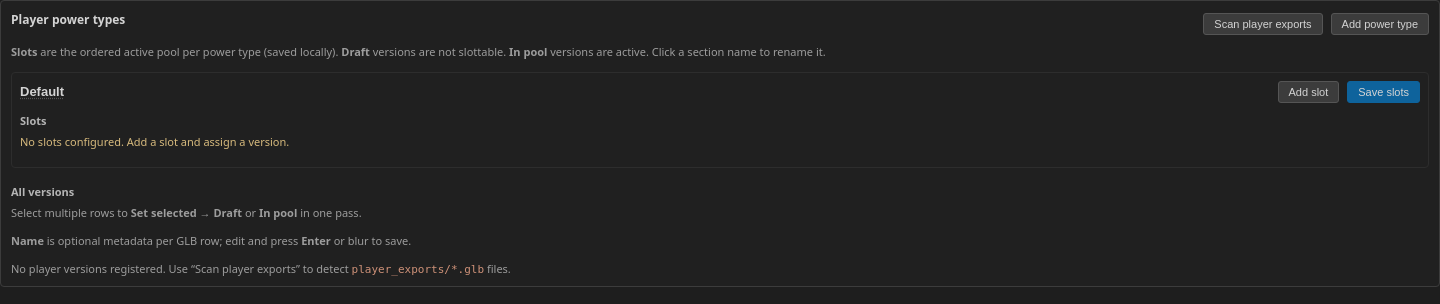
Test: RegistryPlayerPowerTypesSection › saves renamed label when Save is clicked
Click the button with test id "player-pt-name-btn-default" at [42, 92], box [20,82,64,101]
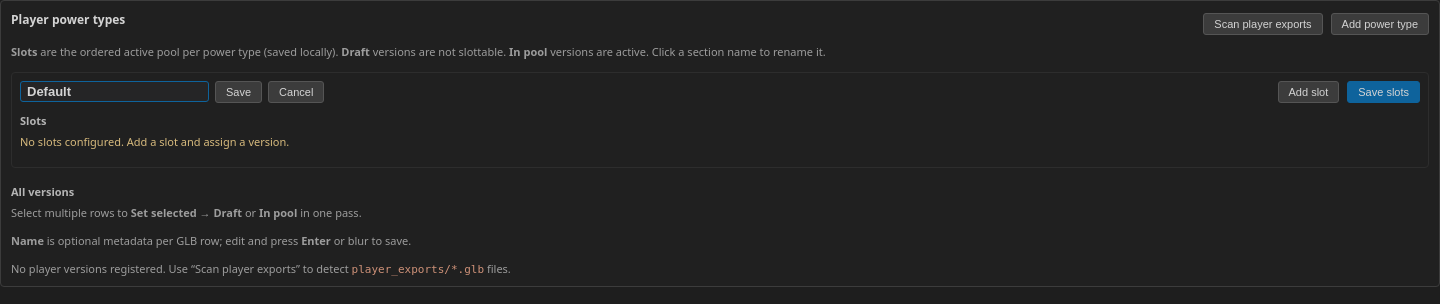
Replace the text in the field with test id "player-pt-name-input-default" with "Fire Type" at [114, 92], box [20,81,209,102]
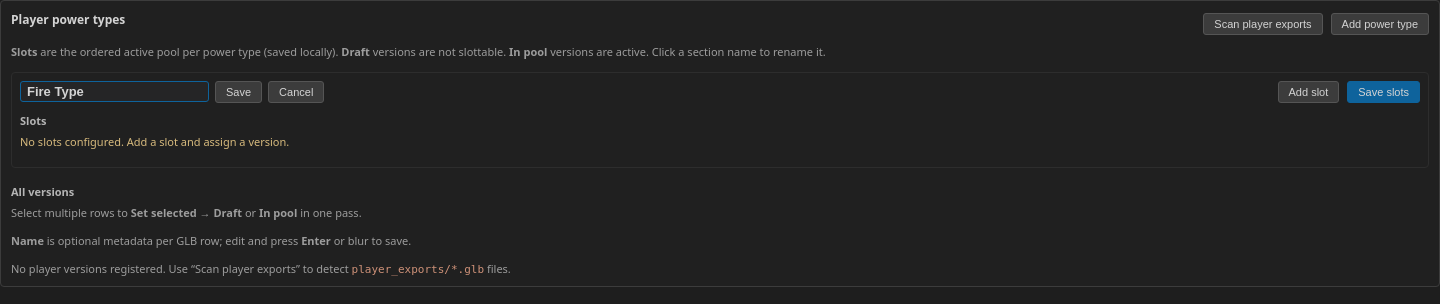
Click the button "Save" at [239, 92], box [215,81,262,103]
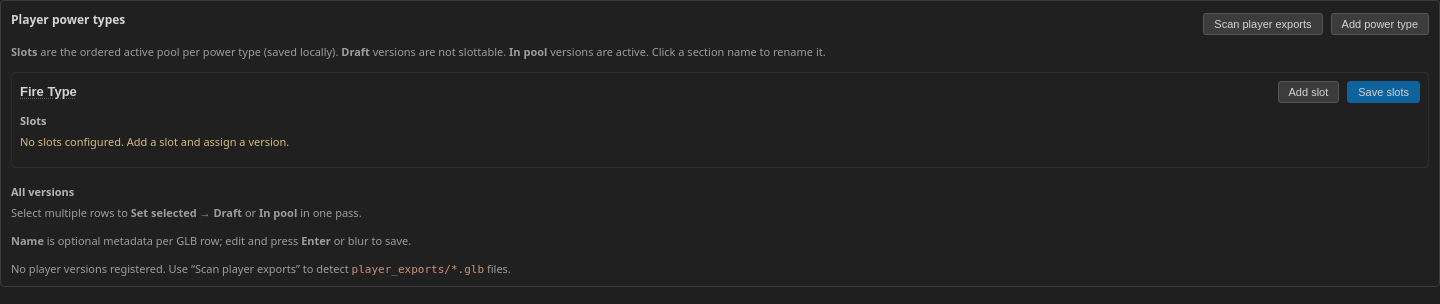
Now the button with test id "player-pt-name-btn-default" reads "Fire Type", box [20,82,77,101]
